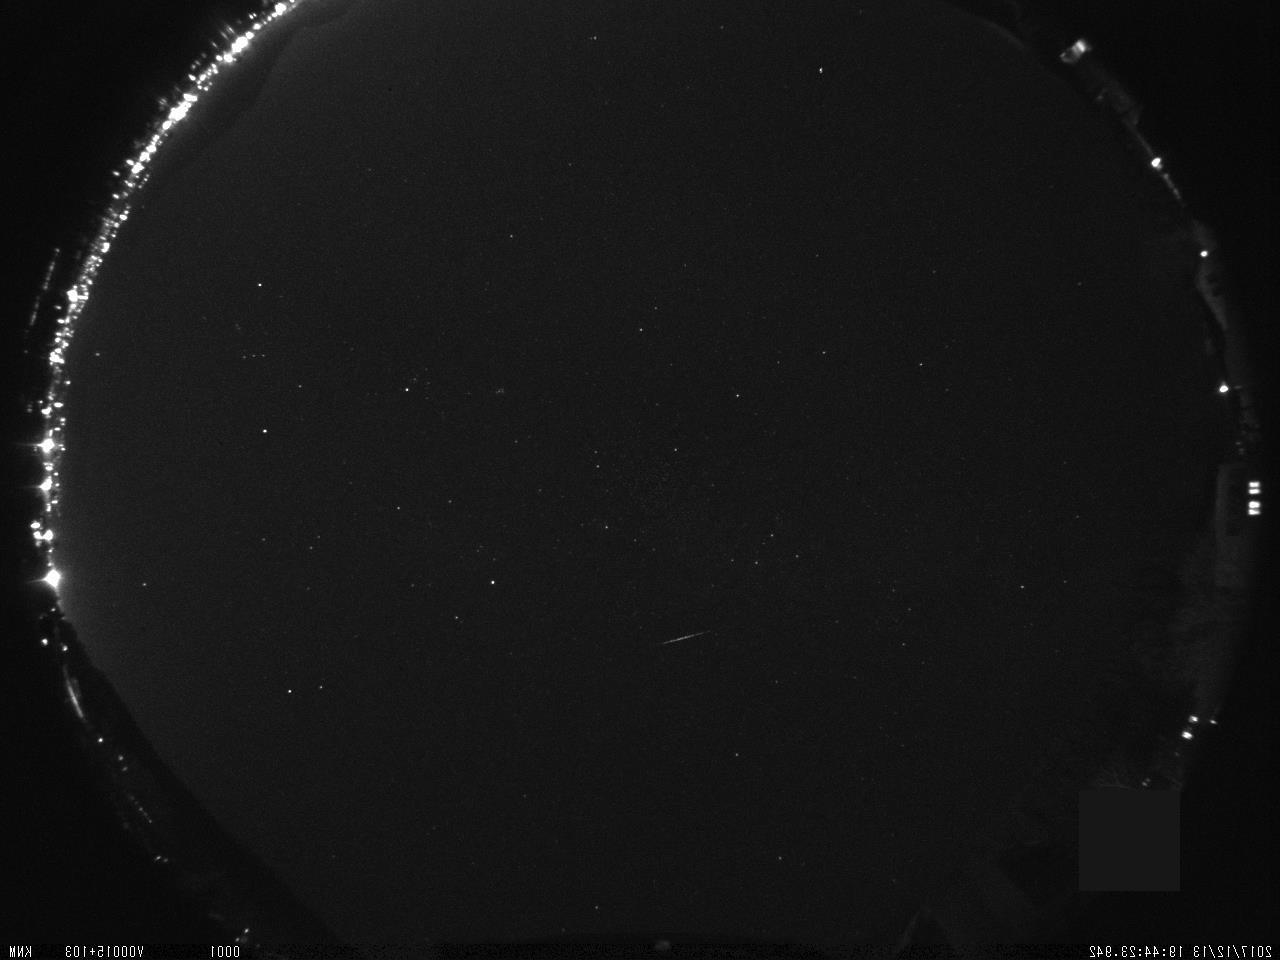meteor: (652, 619, 719, 658)
